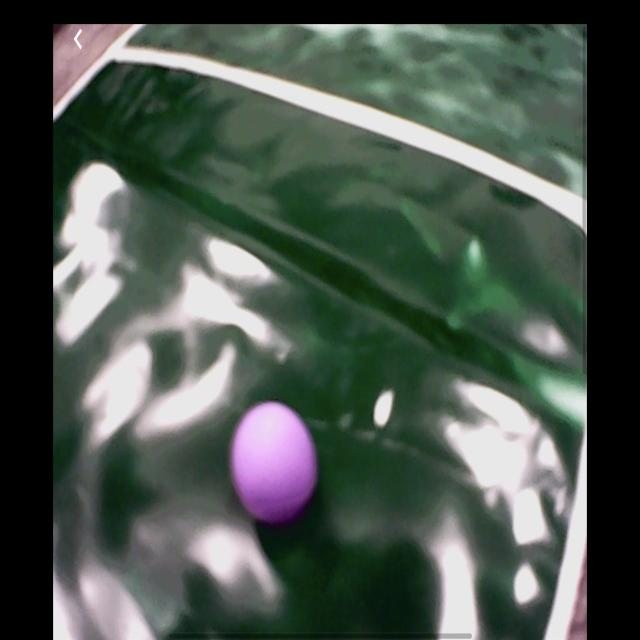ball: (229, 399, 320, 526)
